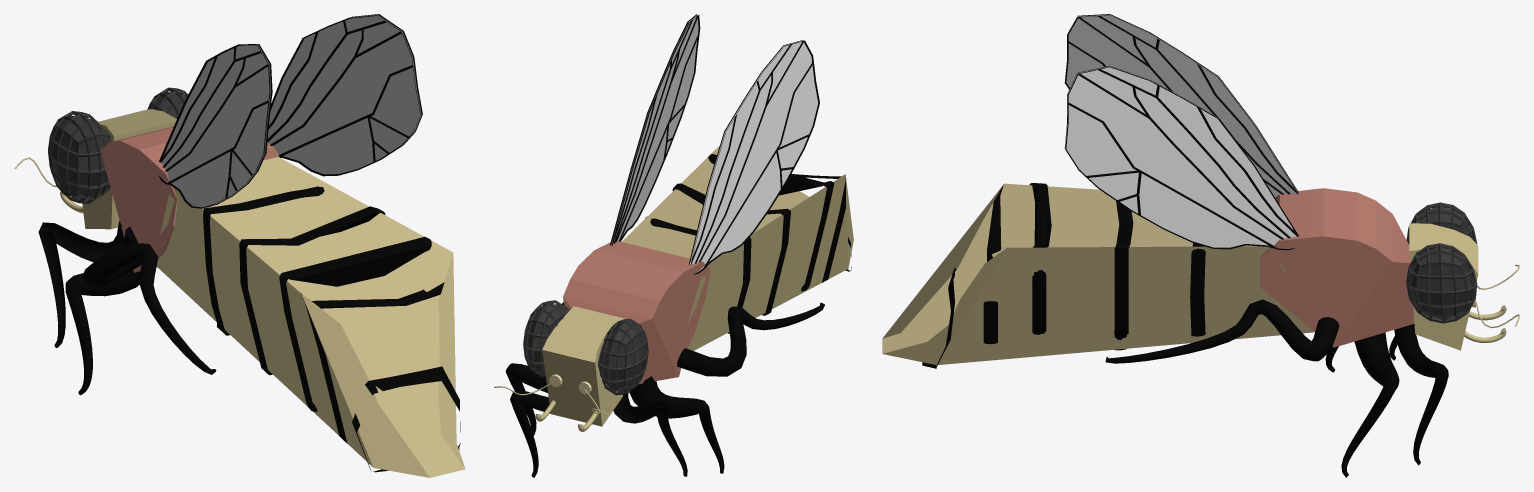
The model's file is MegeseliascalarisLowPoly.fbx.
3 views of the same model, side by side, from view 1: azimuth 30°, elevation 25°; view 2: azimuth 150°, elevation 25°; view 3: azimuth 270°, elevation 25° (orthographic). The views are drawn at different scales.
Visible parts, largest first — view 1: Abdomen, RightWing, LeftWing, Thorax, Ring3, Leg3, Plane.002, Plane.001, Leg1, RightEye, Wire, Head (+6 smaller); view 2: Abdomen, LeftWing, Thorax, Head, RightWing, Plane.001, Plane.002, Leg3, Leg2, Wire, RightEye, Leg1 (+8 smaller); view 3: Abdomen, RightWing, Thorax, LeftWing, Plane.002, Leg6, Head, Wire.001, Leg5, LeftEye, Plane.001, Leg4 (+5 smaller).
Part boxes in pixels (x1,y1,x2,y2): Abdomen: (156, 157, 465, 477); RightWing: (267, 14, 421, 174); LeftWing: (161, 44, 270, 208); Thorax: (100, 126, 279, 272); Ring3: (279, 236, 431, 411); Leg3: (83, 241, 216, 374); Plane.002: (267, 14, 422, 176); Plane.001: (158, 44, 272, 208); Leg1: (38, 221, 124, 347); RightEye: (49, 115, 109, 198); Wire: (48, 111, 111, 203); Head: (82, 109, 176, 229); Abdomen: (622, 145, 853, 350); LeftWing: (689, 40, 818, 271); Thorax: (563, 241, 710, 384); Head: (542, 306, 625, 426); RightWing: (611, 14, 698, 245); Plane.001: (689, 40, 819, 274); Plane.002: (610, 14, 700, 245); Leg3: (677, 302, 824, 376); Leg2: (629, 376, 724, 473); Wire: (597, 318, 648, 395); RightEye: (599, 322, 647, 391); Leg1: (613, 393, 687, 476); Abdomen: (882, 183, 1314, 364); RightWing: (1065, 66, 1296, 247); Thorax: (1260, 188, 1414, 347); LeftWing: (1066, 14, 1298, 197); Plane.002: (1064, 65, 1298, 250); Leg6: (1105, 299, 1339, 363); Head: (1409, 223, 1478, 350); Wire.001: (1406, 243, 1477, 323); Leg5: (1341, 332, 1399, 477); LeftEye: (1408, 247, 1474, 319); Plane.001: (1064, 14, 1298, 194); Leg4: (1394, 324, 1448, 465).
Bounding box in the file's own units: 177 × 304 × 448.
